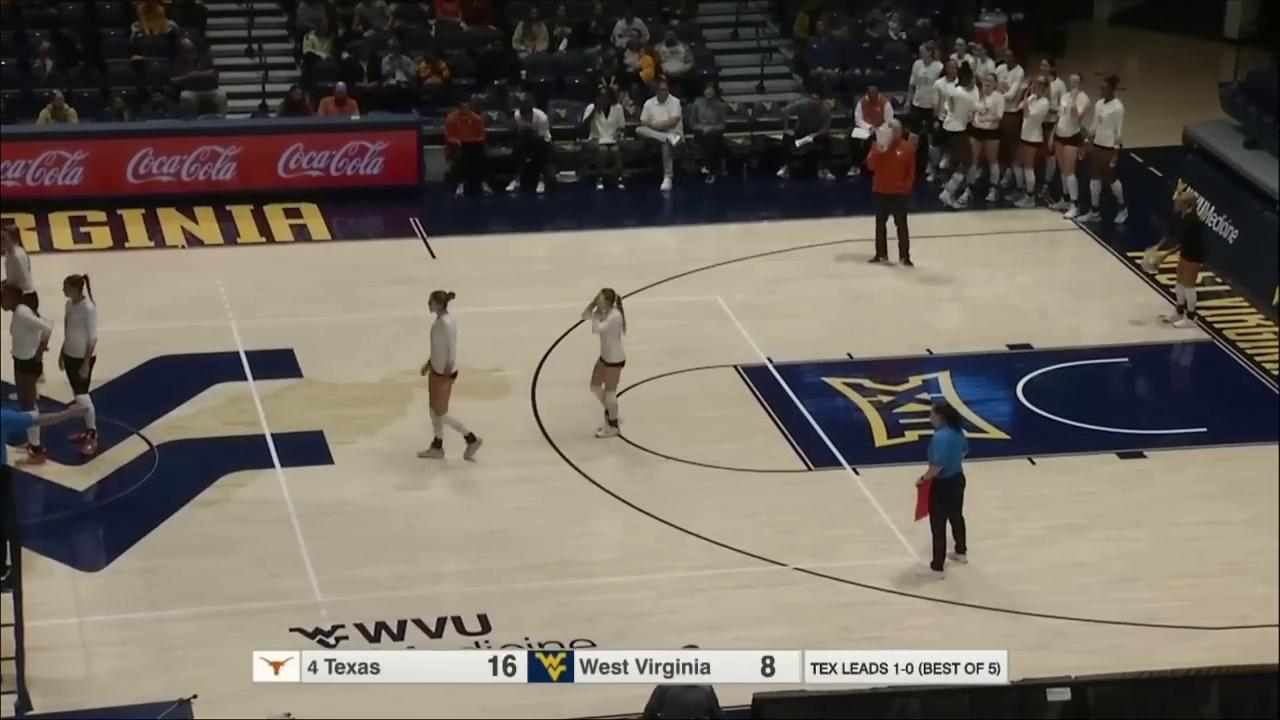player: (418, 285, 483, 463), (57, 274, 109, 455), (0, 287, 55, 455), (1152, 189, 1215, 330), (576, 285, 629, 442), (1, 225, 48, 388)
refree: (909, 403, 972, 580)
